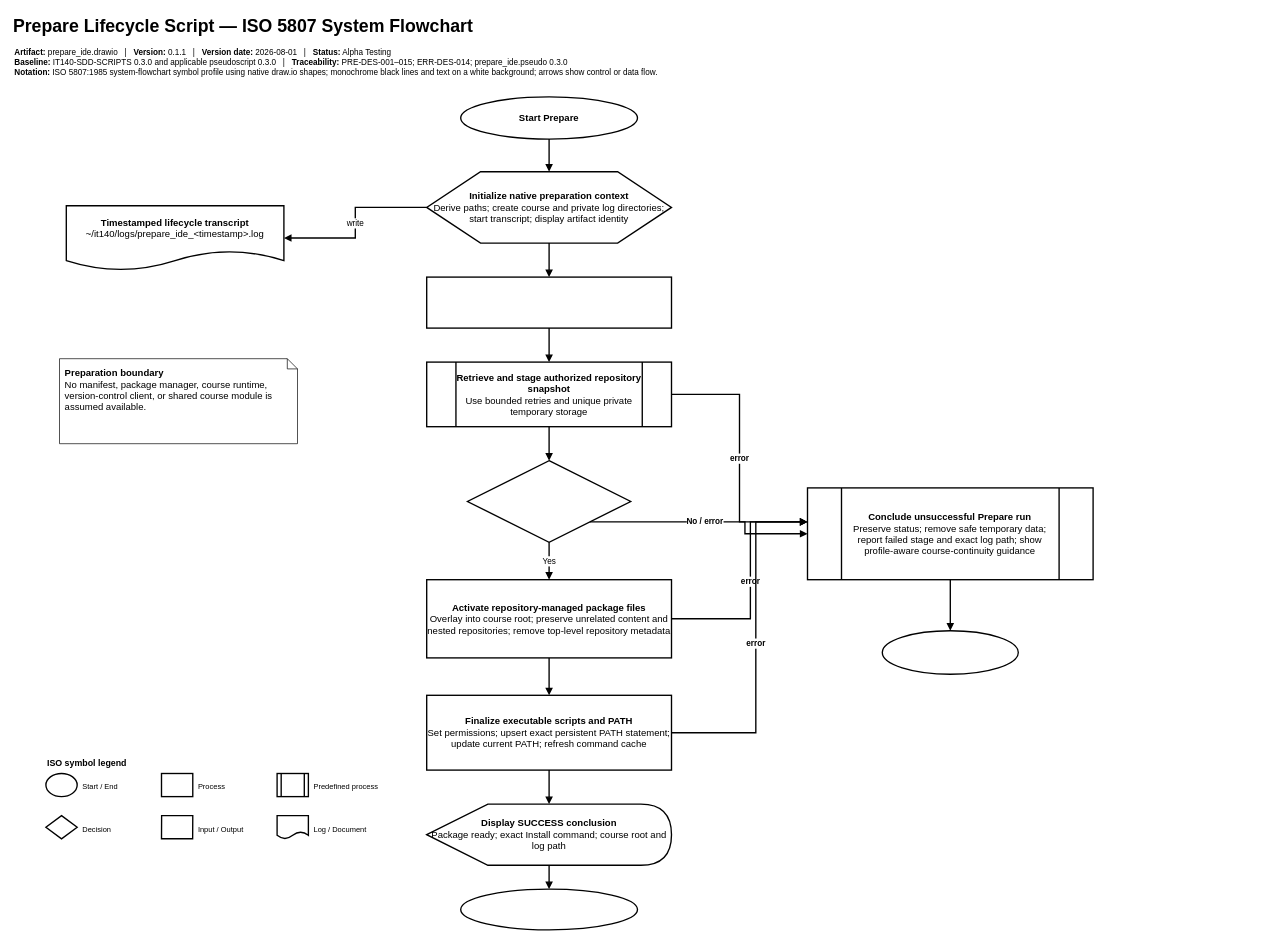
Some shapes in this 1261 by 942 pixel diagram are drawn without their labels. Here are the shapes that lost their labels. From the top down, the centre of each, then its label:
At pixel 549 302: "Register cleanup, error and interruption handlers".
At pixel 548 501: "Snapshot and matching platform package valid?".
At pixel 950 652: "End Close transcript and return nonzero".
At pixel 549 909: "End Close transcript and return 0".
